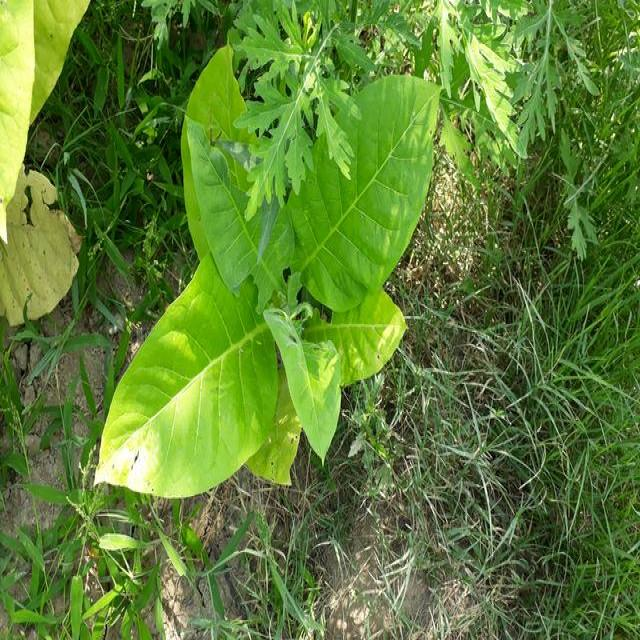crop: (102, 55, 440, 510), (0, 0, 90, 305)
